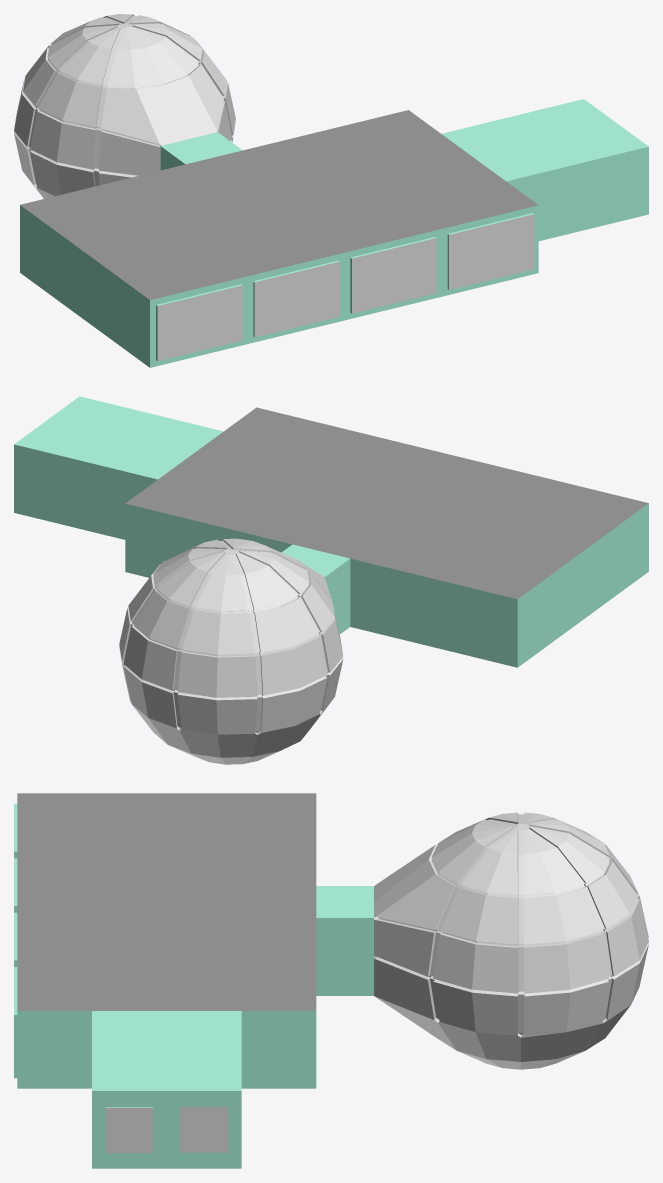
The model's file is Diorama2.fbx.
3 renders of one model, top to bottom at view 1: azimuth 30°, elevation 25°; view 2: azimuth 150°, elevation 25°; view 3: azimuth 270°, elevation 25°, orthographic. The views are drawn at different scales.
Parts seen in each view (by area): view 1: Lid, Sphere, Walls, Display; view 2: Lid, Walls, Sphere; view 3: Lid, Sphere, Walls, Display.
Part boxes in pixels (left/top/right/bottom): Lid: left=20, top=110, right=538, bottom=299; Sphere: left=14, top=14, right=235, bottom=198; Walls: left=20, top=99, right=648, bottom=367; Display: left=150, top=205, right=538, bottom=367; Lid: left=125, top=407, right=648, bottom=599; Walls: left=14, top=396, right=648, bottom=667; Sphere: left=119, top=538, right=343, bottom=764; Lid: left=17, top=793, right=316, bottom=1010; Sphere: left=374, top=812, right=648, bottom=1069; Walls: left=17, top=886, right=373, bottom=1168; Display: left=14, top=803, right=17, bottom=1078.
Bounding box in the file's own units: 32.88 × 11.96 × 29.58.
